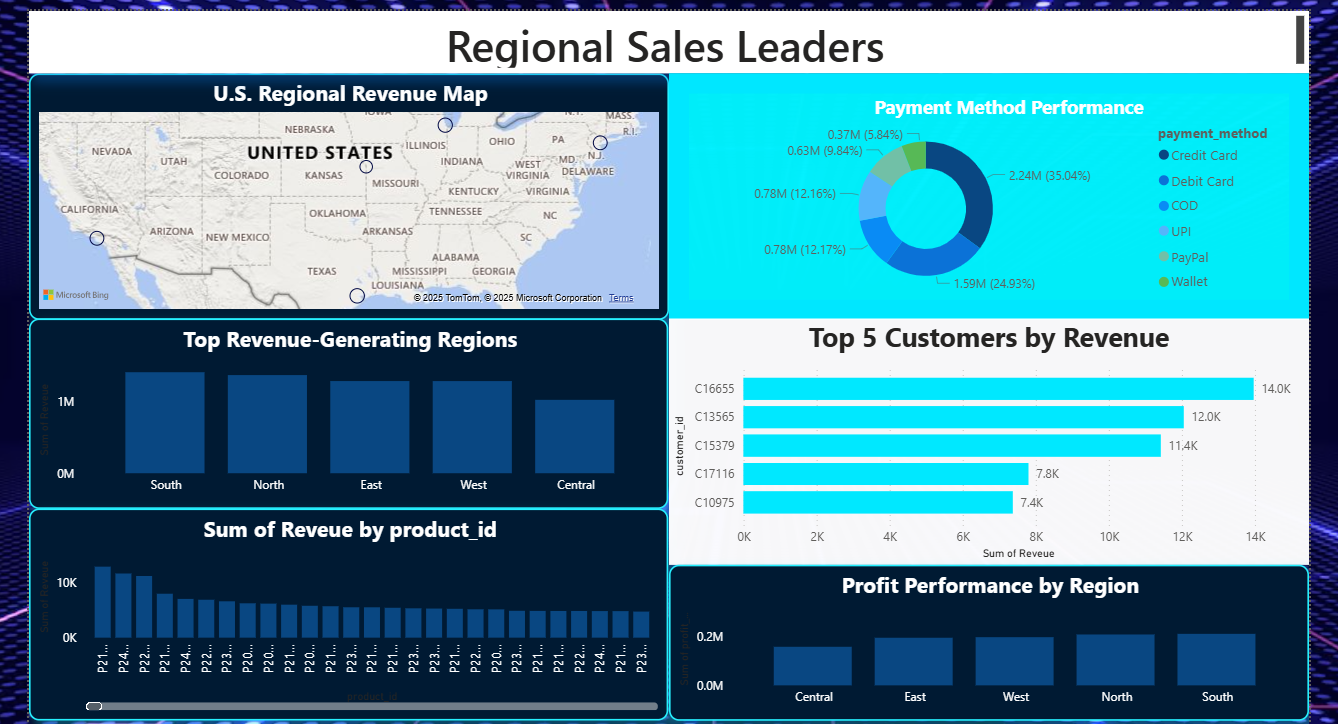

Layout of this report page (visuals, bound fields, positions):
{"tool":"powerbi","page":{"name":"Geo & Product Insights","canvas":[1280,720],"ordinal":1},"visuals":[{"type":"map","title":"U.S. Regional Revenue Map","fields":{"Category":["ecommerce_sales_34500.region"],"Y":["Avg(ecommerce_sales_34500.Latitude)"],"X":["Avg(ecommerce_sales_34500.Longitude)"],"Size":["Sum(ecommerce_sales_34500.Reveue)"]},"box":[0,62,640,246],"z":0},{"type":"textbox","box":[0,0,1280,62],"z":1000},{"type":"columnChart","title":"Top Revenue-Generating Regions","fields":{"Category":["ecommerce_sales_34500.region"],"Y":["Sum(ecommerce_sales_34500.Reveue)"]},"box":[0,307.4,639.5,190.1],"z":2000},{"type":"clusteredColumnChart","fields":{"Category":["ecommerce_sales_34500.product_id"],"Y":["Sum(ecommerce_sales_34500.Reveue)"]},"box":[0,497.5,639.5,212.3],"z":3000},{"type":"donutChart","title":"Payment Method Performance","fields":{"Category":["ecommerce_sales_34500.payment_method"],"Y":["Sum(ecommerce_sales_34500.Reveue)"]},"box":[640,62,640,246],"z":4000},{"type":"clusteredBarChart","title":"Top 5 Customers by Revenue","fields":{"Category":["ecommerce_sales_34500.customer_id"],"Y":["Sum(ecommerce_sales_34500.Reveue)"]},"box":[640,308,640,246],"z":5000},{"type":"clusteredColumnChart","title":"Profit Performance by Region","fields":{"Category":["ecommerce_sales_34500.region"],"Y":["Sum(ecommerce_sales_34500.profit_margin)"]},"box":[640,554,640,156],"z":6000}]}

Visuals, with their boxes in screenshot pixels (x1, y1, x2, y2):
"U.S. Regional Revenue Map" map: 28:69:663:313
textbox: 28:7:1299:69
"Top Revenue-Generating Regions" columnChart: 28:312:663:501
clusteredColumnChart - ecommerce_sales_34500.product_id x Sum(ecommerce_sales_34500.Reveue): 28:501:663:712
"Payment Method Performance" donutChart: 663:69:1299:313
"Top 5 Customers by Revenue" clusteredBarChart: 663:313:1299:557
"Profit Performance by Region" clusteredColumnChart: 663:557:1299:712
